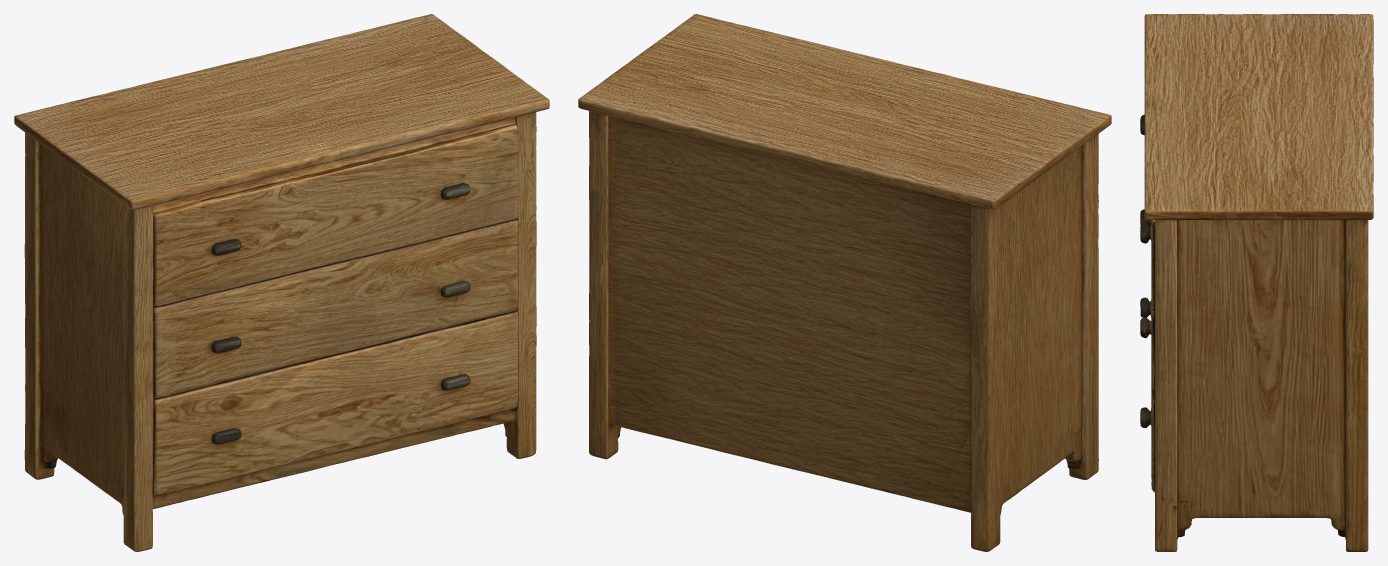
Rendered from chest.glb.
3 views of the same model, side by side, from view 1: azimuth 30°, elevation 25°; view 2: azimuth 150°, elevation 25°; view 3: azimuth 270°, elevation 25° (orthographic). The views are drawn at different scales.
Visible parts, largest first — view 1: tripo_node_e68a21f4; view 2: tripo_node_e68a21f4; view 3: tripo_node_e68a21f4.
Boxes of the visible parts, x1=… form: tripo_node_e68a21f4: x1=14, y1=14, x2=549, y2=551; tripo_node_e68a21f4: x1=578, y1=14, x2=1111, y2=551; tripo_node_e68a21f4: x1=1140, y1=14, x2=1373, y2=551.
Size of the model in its own units: 97.94 by 79.97 by 48.79.
Materials: 1 (1 with a texture image).
